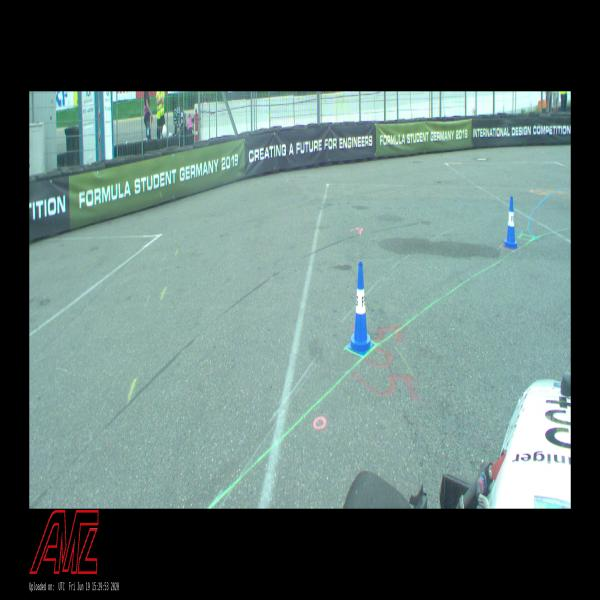blue_cone: (347, 262, 374, 356), (502, 196, 518, 250)
